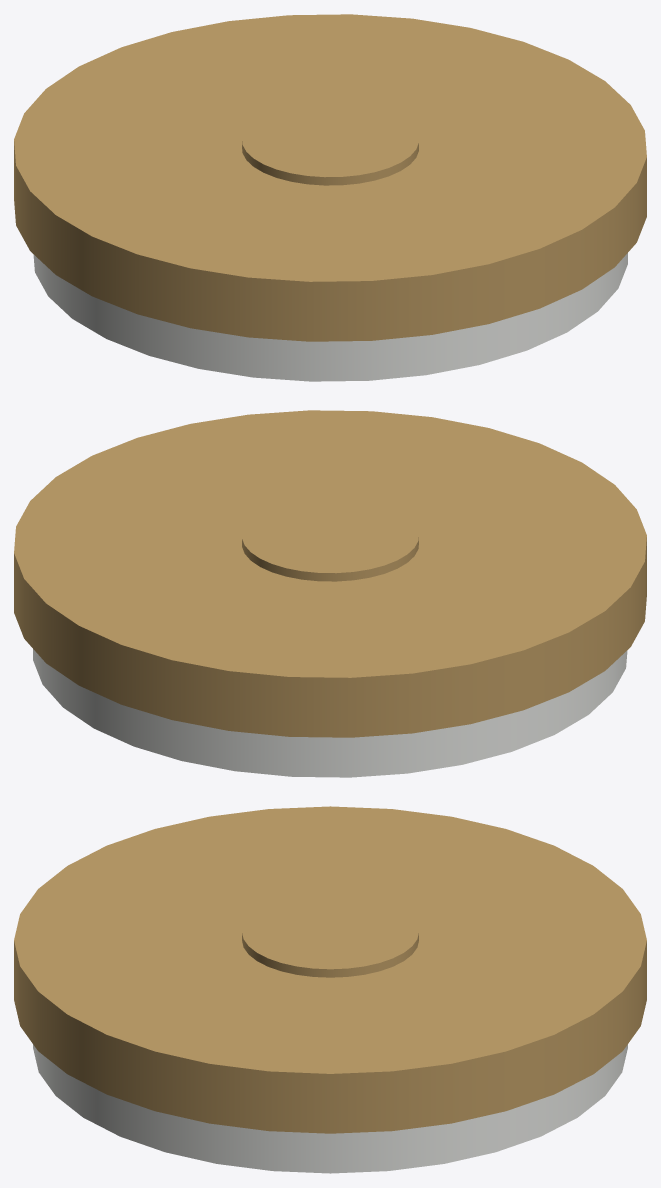
File: ceiling-opal-flush.glb
3 views of the same model, one above another, from view 1: azimuth 30°, elevation 25°; view 2: azimuth 150°, elevation 25°; view 3: azimuth 270°, elevation 25° (orthographic).
Visible parts, largest first — view 1: ceiling-opal-flush authored assembly; view 2: ceiling-opal-flush authored assembly; view 3: ceiling-opal-flush authored assembly.
Part boxes in pixels (<box>): ceiling-opal-flush authored assembly: <box>14,14,646,381</box>; ceiling-opal-flush authored assembly: <box>14,410,646,777</box>; ceiling-opal-flush authored assembly: <box>14,806,646,1173</box>.
Bounding box in the file's own units: 0.48 × 0.1 × 0.48.
